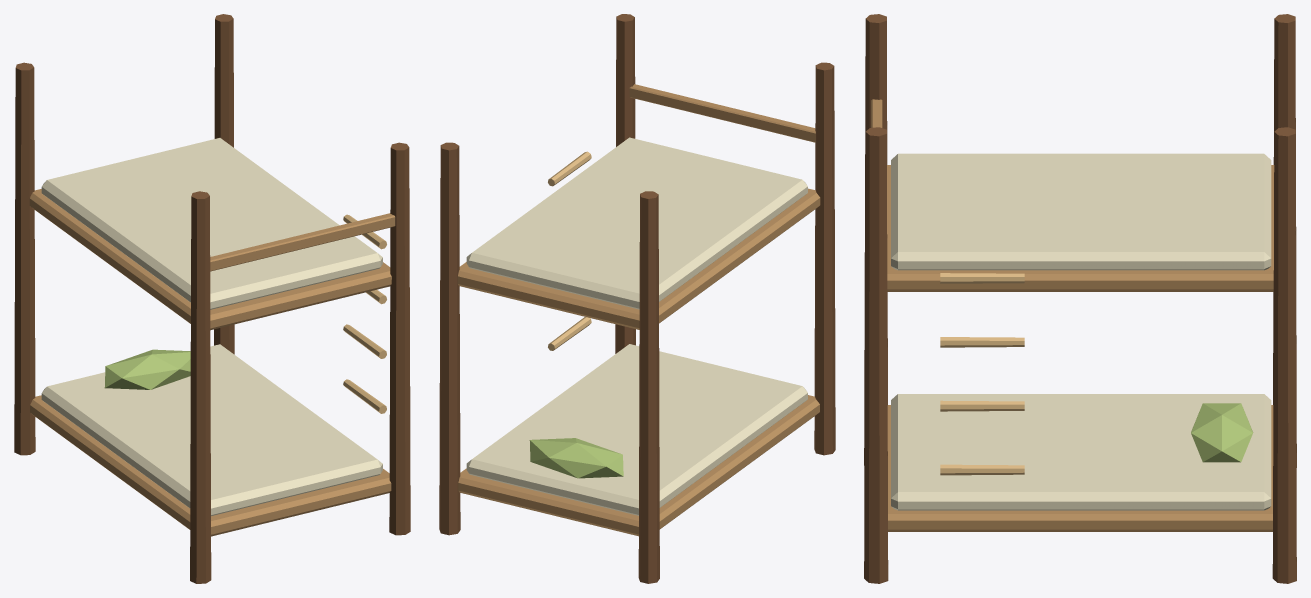
Rendered from CC_BunkBed.fbx.
The picture shows the model from 3 angles, left to right: view 1: azimuth 30°, elevation 25°; view 2: azimuth 150°, elevation 25°; view 3: azimuth 270°, elevation 25°; orthographic projection. The views are drawn at different scales.
Visible parts, largest first — view 1: Upper mattress, Lower mattress, Bunk post, Bunk post.002, Bunk post.001, Upper base, Lower base, Bunk post.003, Upper rail, Pillow.004; view 2: Upper mattress, Lower mattress, Bunk post.001, Bunk post.003, Bunk post, Upper base, Lower base, Pillow.004, Bunk post.002, Upper rail; view 3: Upper mattress, Lower mattress, Bunk post.002, Bunk post.003, Lower base, Upper base, Pillow.004, Bunk post.001, Bunk post, Ladder rung.003, Ladder rung.002, Ladder rung (+1 smaller).
Boxes of the visible parts, x1,y1,x2,y2 form: Upper mattress: (41, 138, 382, 309); Lower mattress: (41, 344, 382, 515); Bunk post: (190, 191, 211, 583); Bunk post.002: (389, 142, 410, 535); Bunk post.001: (14, 62, 35, 455); Upper base: (29, 189, 391, 330); Lower base: (30, 395, 391, 536); Bunk post.003: (214, 14, 234, 354); Upper rail: (210, 213, 395, 271); Pillow.004: (104, 349, 190, 389); Upper mattress: (466, 137, 807, 309); Lower mattress: (466, 344, 807, 515); Bunk post.001: (638, 191, 659, 583); Bunk post.003: (439, 142, 460, 535); Bunk post: (814, 62, 835, 455); Upper base: (457, 188, 820, 329); Lower base: (458, 395, 819, 536); Pillow.004: (529, 438, 623, 478); Bunk post.002: (615, 14, 635, 353); Upper rail: (629, 84, 815, 142); Upper mattress: (891, 153, 1271, 270); Lower mattress: (891, 394, 1271, 510); Bunk post.002: (864, 127, 888, 583); Bunk post.003: (1272, 127, 1296, 583); Lower base: (887, 405, 1273, 531); Upper base: (887, 165, 1274, 291); Pillow.004: (1191, 403, 1253, 462); Bunk post.001: (1273, 14, 1296, 467); Bunk post: (864, 14, 887, 465); Ladder rung.003: (940, 273, 1024, 283); Ladder rung.002: (940, 337, 1024, 347); Ladder rung: (940, 464, 1024, 475).
Bounding box in the file's own units: 2.13 × 3.5 × 3.07.
